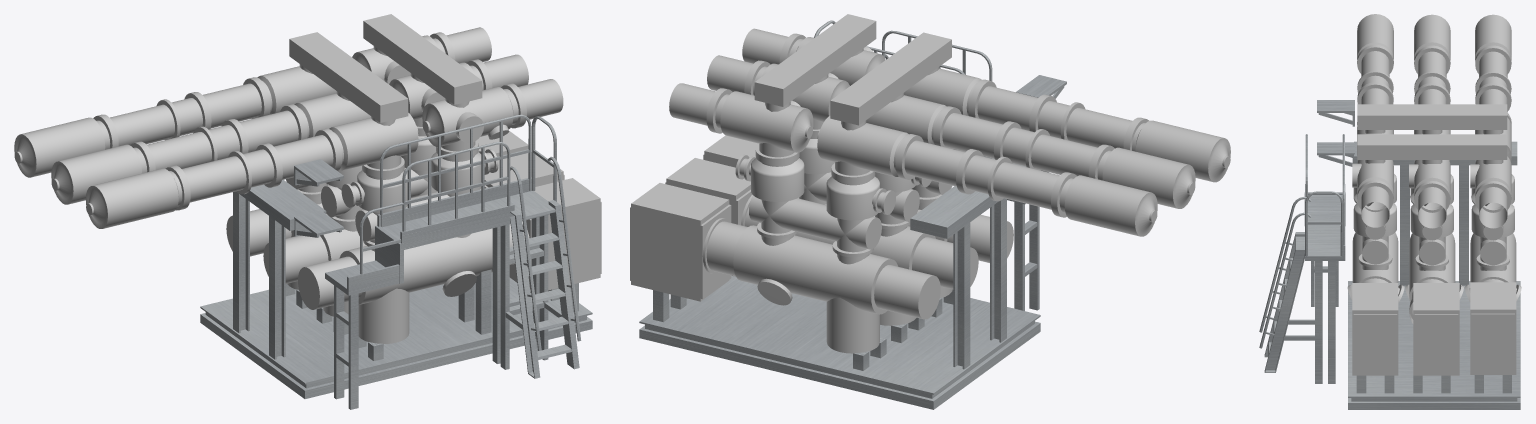
Rendered from Machine004.FBX.
3 renders of one model, left to right at view 1: azimuth 30°, elevation 25°; view 2: azimuth 150°, elevation 25°; view 3: azimuth 270°, elevation 25°, orthographic. The views are drawn at different scales.
Visible parts, largest first — view 1: Machine004; view 2: Machine004; view 3: Machine004.
Part boxes in pixels (bbox=[...]): Machine004: bbox=[14, 14, 601, 409]; Machine004: bbox=[630, 14, 1230, 409]; Machine004: bbox=[1259, 14, 1521, 409].
Size of the model in its own units: 806 by 416 by 445.
